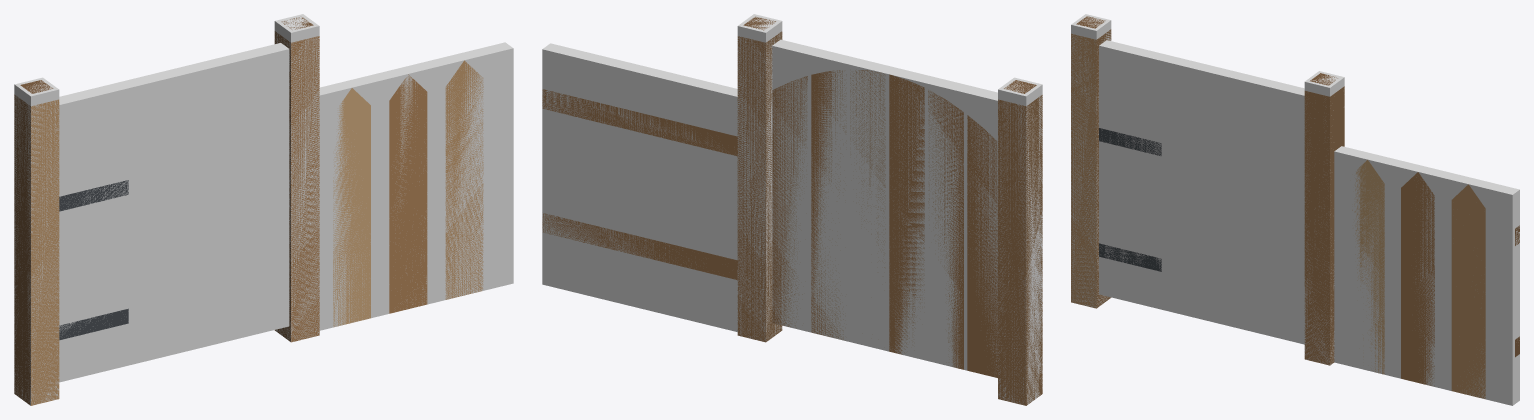
The model's file is FMS_Fence_Gate.fbx.
3 renders of one model, left to right at view 1: azimuth 30°, elevation 25°; view 2: azimuth 150°, elevation 25°; view 3: azimuth 330°, elevation 25°, orthographic. The views are drawn at different scales.
Parts seen in each view (by area): view 1: FMS_Fence_Gate_Leaf_Col, FMS_Fence_Gate_LOD0, FMS_Fence_Gate_Col, FMS_Fence_Gate_Leaf; view 2: FMS_Fence_Gate_Col, FMS_Fence_Gate_Leaf_Col, FMS_Fence_Gate_Leaf, FMS_Fence_Gate_LOD0; view 3: FMS_Fence_Gate_Leaf_Col, FMS_Fence_Gate_LOD0, FMS_Fence_Gate_Col, FMS_Fence_Gate_Leaf.
Boxes of the visible parts, bbox=[...] form: FMS_Fence_Gate_Leaf_Col: bbox=[59, 43, 289, 382]; FMS_Fence_Gate_LOD0: bbox=[14, 17, 483, 405]; FMS_Fence_Gate_Col: bbox=[14, 14, 513, 405]; FMS_Fence_Gate_Leaf: bbox=[59, 180, 128, 340]; FMS_Fence_Gate_Col: bbox=[542, 14, 1042, 404]; FMS_Fence_Gate_Leaf_Col: bbox=[772, 39, 997, 377]; FMS_Fence_Gate_Leaf: bbox=[772, 70, 997, 377]; FMS_Fence_Gate_LOD0: bbox=[542, 16, 1042, 405]; FMS_Fence_Gate_Leaf_Col: bbox=[1099, 40, 1304, 344]; FMS_Fence_Gate_LOD0: bbox=[1071, 16, 1519, 399]; FMS_Fence_Gate_Col: bbox=[1071, 14, 1519, 405]; FMS_Fence_Gate_Leaf: bbox=[1099, 128, 1161, 271].
Size of what is drawn, in the model's own units: 2.06 by 1.25 by 0.12.
Materials: 1 (1 with a texture image).
